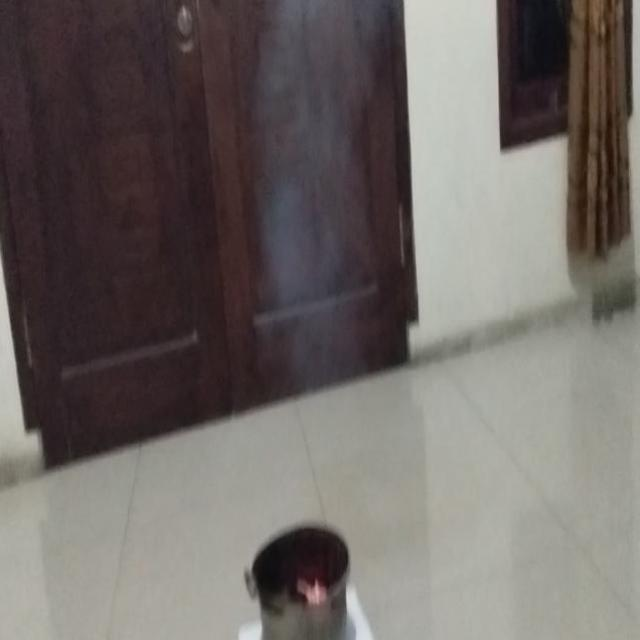fire: (255, 0, 378, 385)
